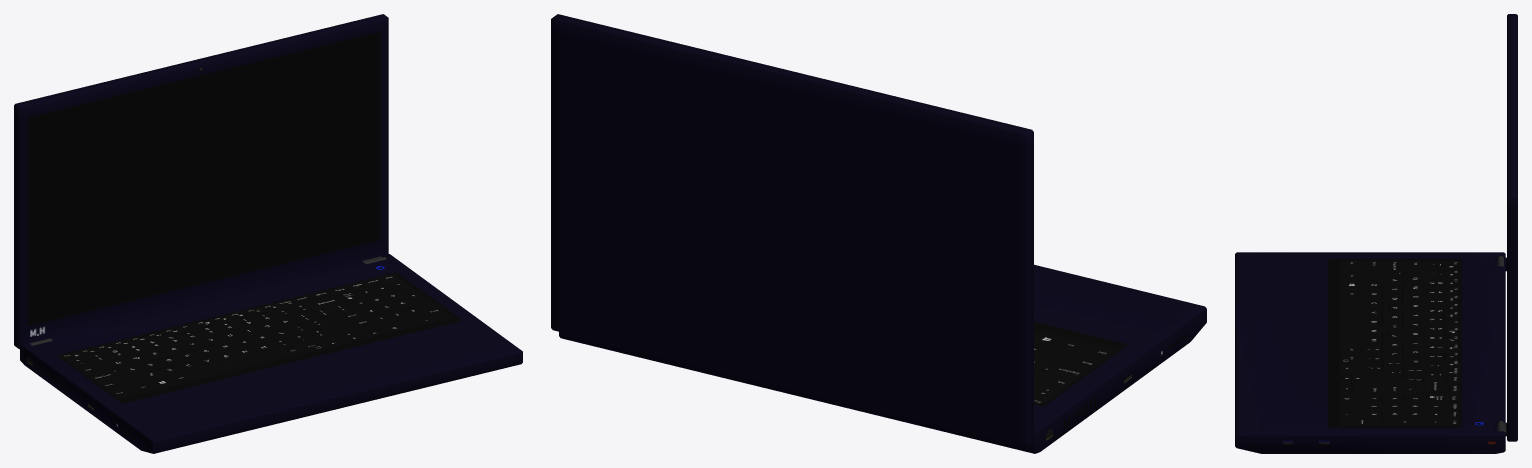
File: Low_Poly_Laptop.glb
3 views of the same model, side by side, from view 1: azimuth 30°, elevation 25°; view 2: azimuth 150°, elevation 25°; view 3: azimuth 270°, elevation 25° (orthographic). The views are drawn at different scales.
Visible parts, largest first — view 1: Screen, Base; view 2: Screen, Base; view 3: Base, Screen.
Boxes of the visible parts, x1,y1,x2,y2 form: Screen: (14,14,388,349); Base: (20,254,522,453); Screen: (551,14,1033,445); Base: (559,264,1206,453); Base: (1235,252,1505,453); Screen: (1497,14,1517,441).
Size of the model in its own units: 0.3199 by 0.2101 by 0.2086.
2 materials, 2 textured.
